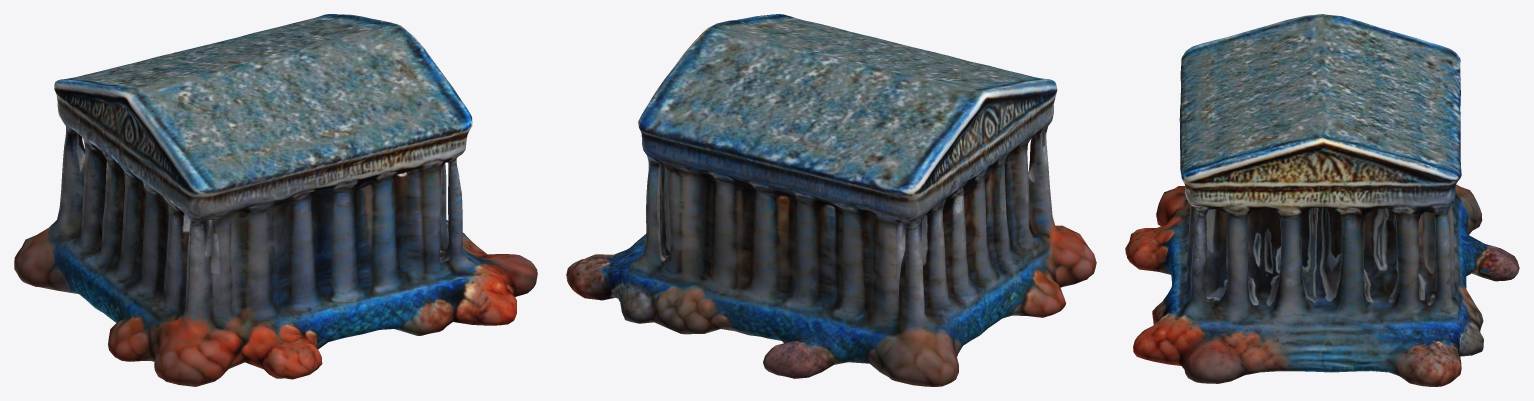
The model's file is add7163f50ae_26cfb160c88e_Greek_Pantheon_made.glb.
3 views of the same model, side by side, from view 1: azimuth 30°, elevation 25°; view 2: azimuth 150°, elevation 25°; view 3: azimuth 270°, elevation 25° (orthographic). The views are drawn at different scales.
Parts seen in each view (by area): view 1: mesh; view 2: mesh; view 3: mesh.
Boxes of the visible parts, left/top/right/bottom form: mesh: left=14, top=14, right=537, bottom=386; mesh: left=566, top=14, right=1096, bottom=386; mesh: left=1125, top=14, right=1519, bottom=386.
Bounding box in the file's own units: 0.9904 × 0.5603 × 0.905.
1 material, 1 textured.
